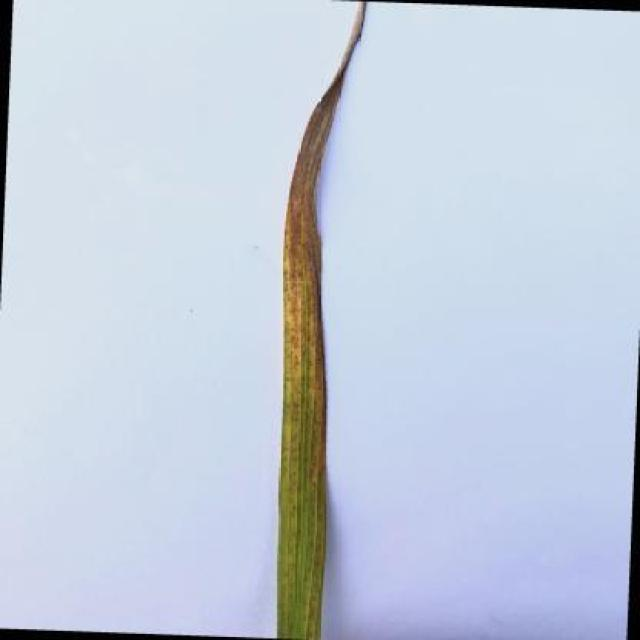Rice False Smut: (278, 2, 366, 640)
